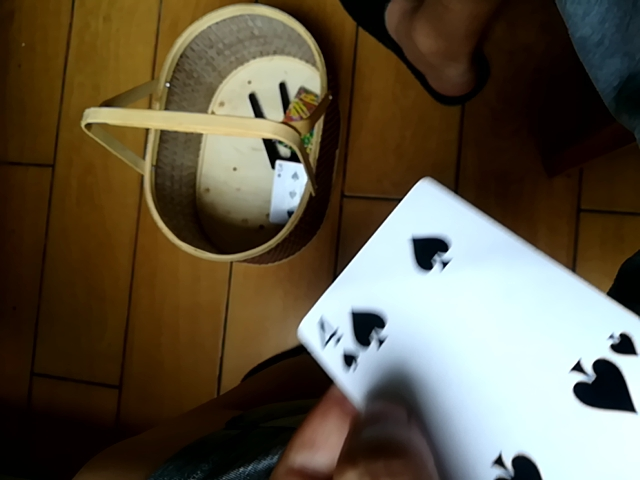ht 4: (289, 172, 640, 478)
